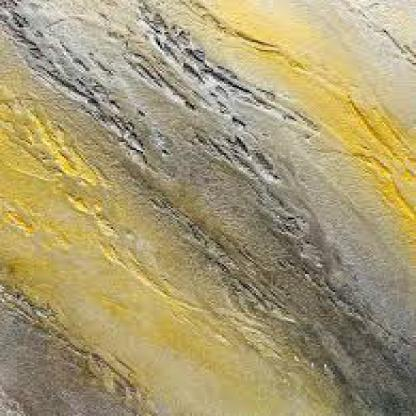Metamorphic_Marble: (0, 1, 414, 414)
